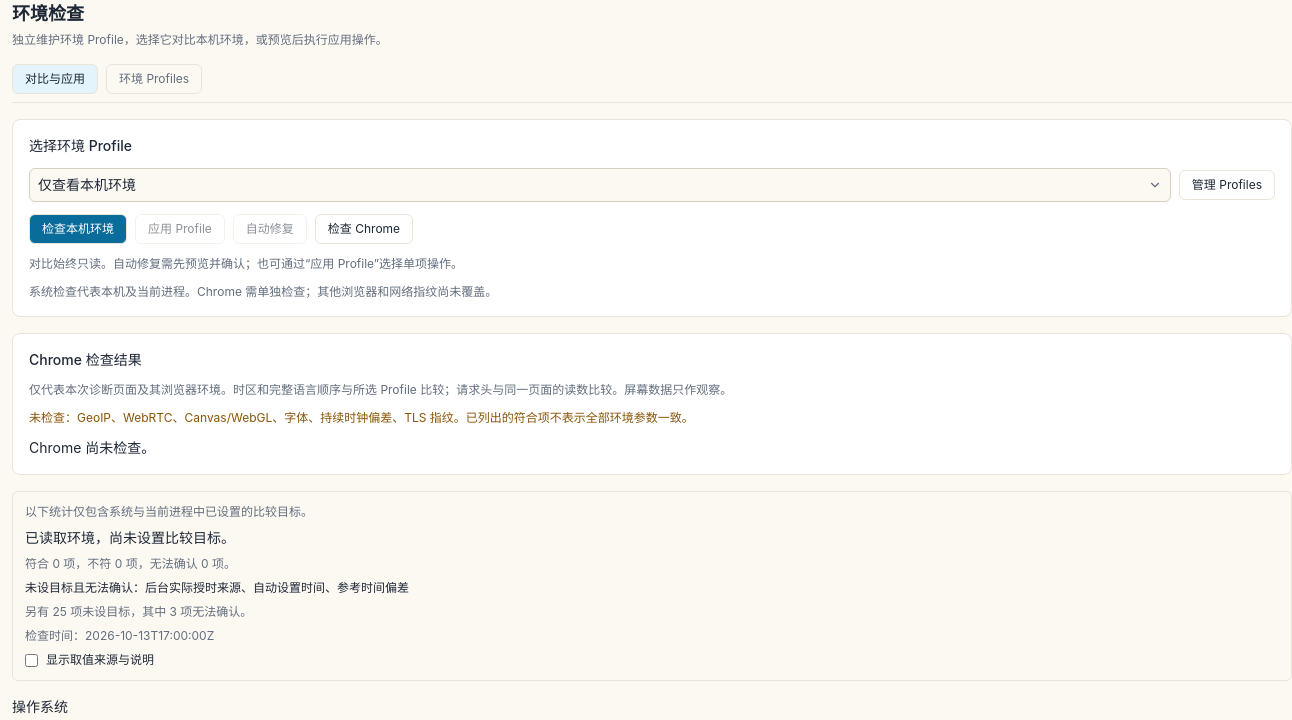
it: Independent environment profiles › compares a legacy auto-sync profile without correcting time
The width and height of the screenshot is (1292, 720).
Check: the text "已读取环境，尚未设置比较目标。" is shown, box x1=25 y1=529 x2=235 y2=546
What coordinates should you click on to do the following:
click the dropdown named "选择环境 Profile"
I would click on:
 (87, 184)
Its box is x1=29 y1=168 x2=1171 y2=202.
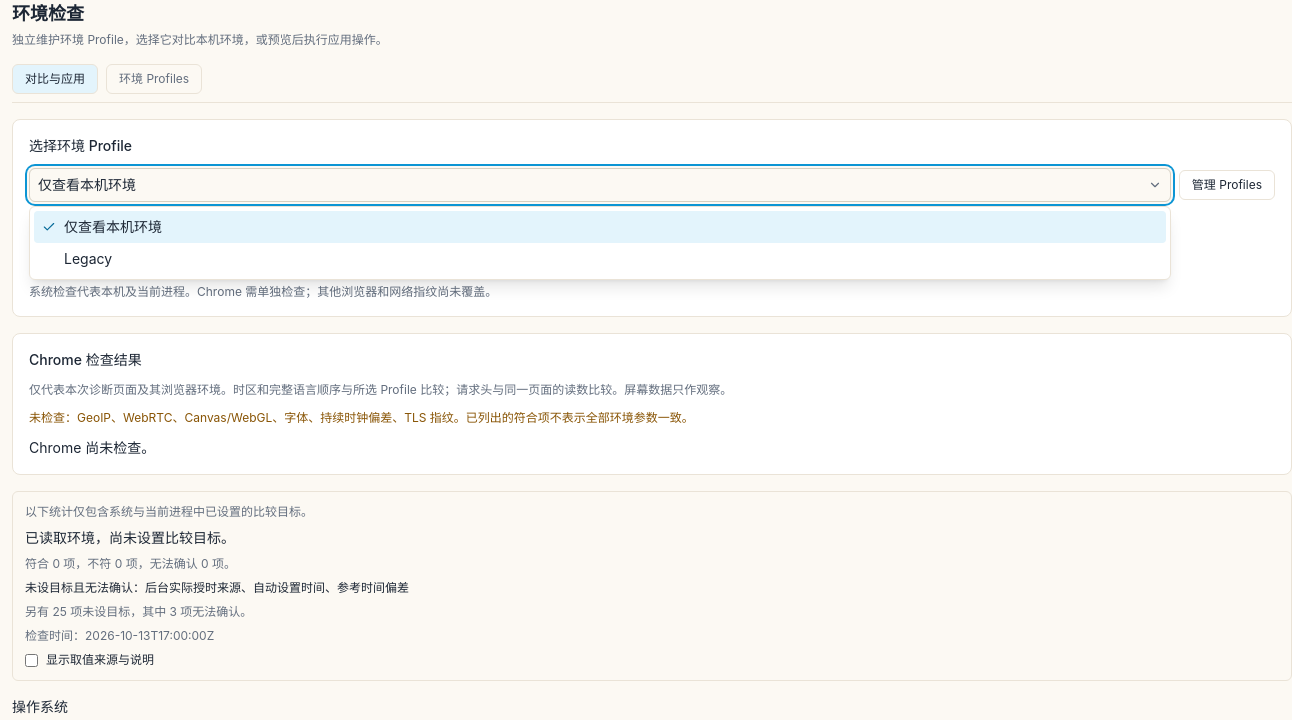
What coordinates should you click on to do the following:
click the option "Legacy"
I would click on:
 (88, 258)
Its box is x1=64 y1=250 x2=112 y2=267.
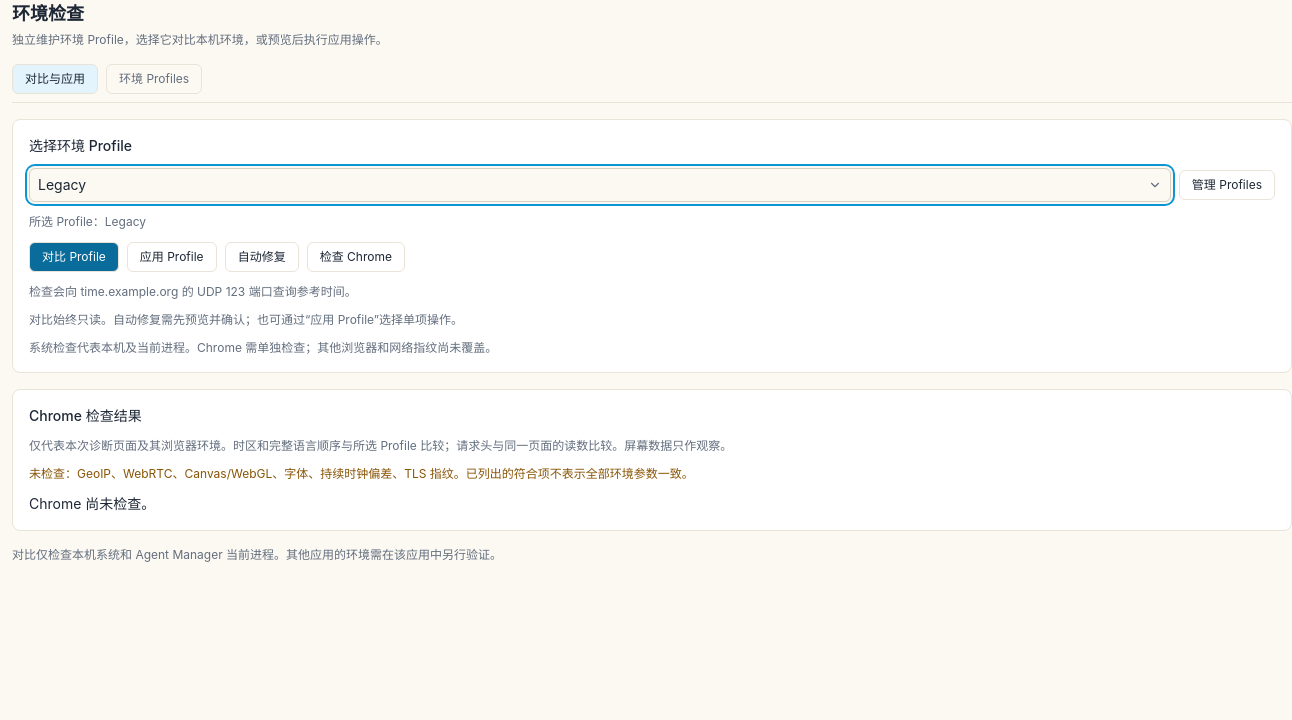
What coordinates should you click on to do the following:
click the button "对比 Profile"
I would click on:
 (74, 257)
Its box is x1=29 y1=242 x2=119 y2=272.
(page scrolled)
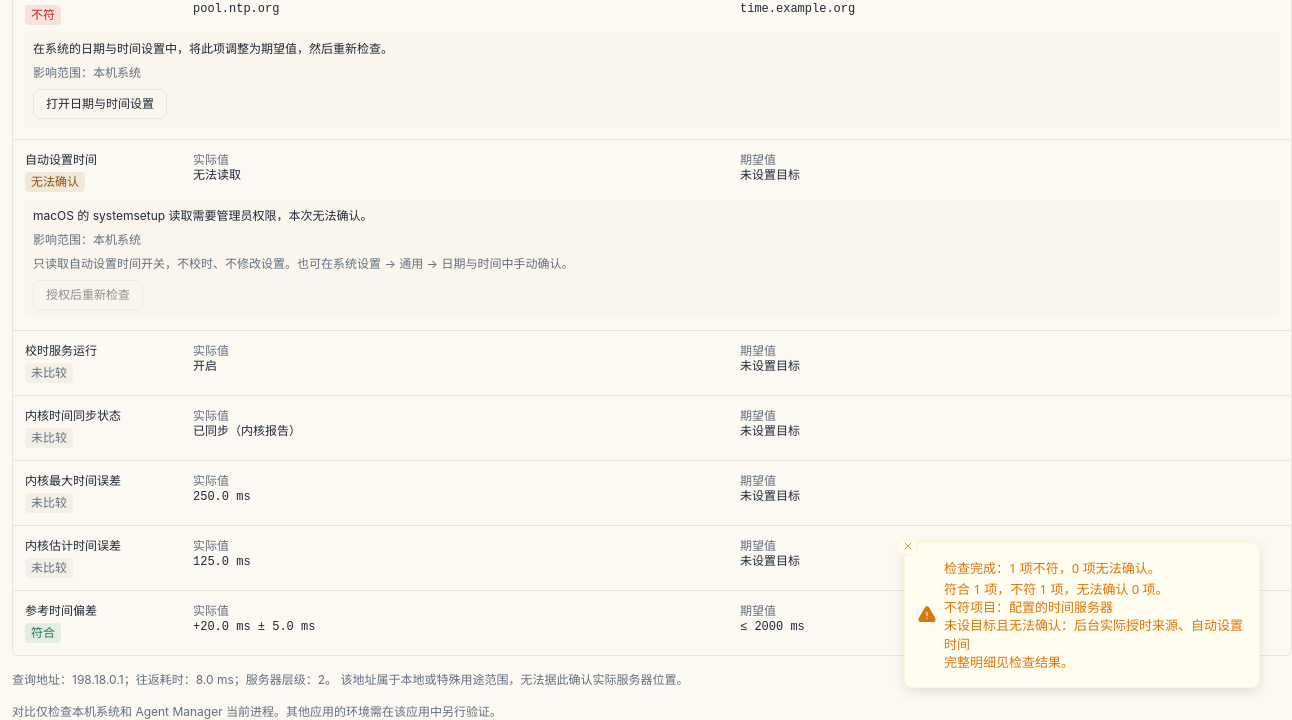
Check: the text "查询地址：" is shown, box x1=12 y1=672 x2=337 y2=687
